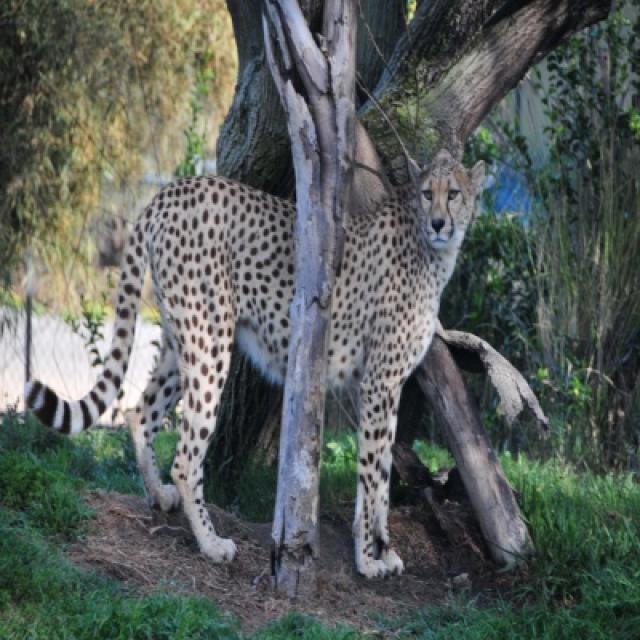Cheetah: (26, 178, 298, 558), (310, 149, 482, 576), (275, 410, 322, 555)
